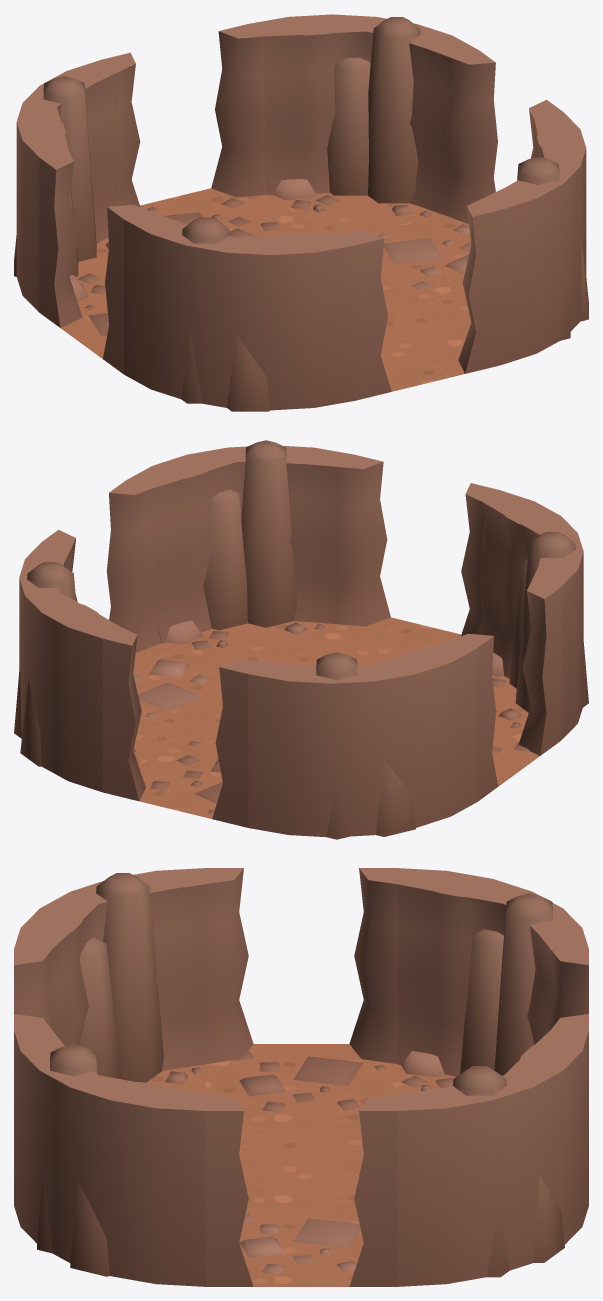
The model's file is room-small.glb.
3 views of the same model, one above another, from view 1: azimuth 30°, elevation 25°; view 2: azimuth 150°, elevation 25°; view 3: azimuth 270°, elevation 25° (orthographic). The views are drawn at different scales.
Parts seen in each view (by area): view 1: room-small; view 2: room-small; view 3: room-small.
Boxes of the visible parts, bbox=[...] form: room-small: bbox=[14, 14, 588, 411]; room-small: bbox=[14, 440, 588, 839]; room-small: bbox=[14, 868, 588, 1286].
Size of the model in its own units: 12 by 4.4 by 12.
Materials: 1 (1 with a texture image).
